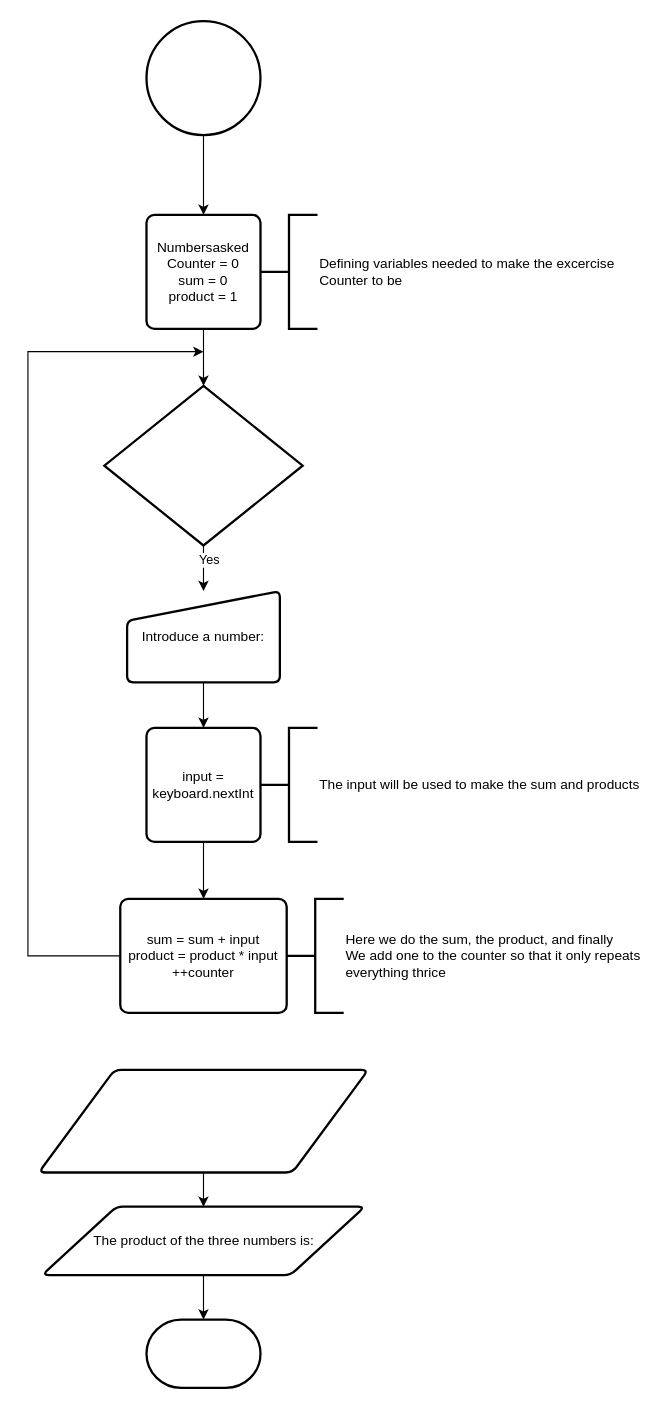
The diagram is 661 pixels wide and 1408 high, and some of its shapes have lost their labels. Here are the shapes that lost their labels. From the top down, the centre of each, then its label:
(x=203, y=77): START
(x=203, y=465): Is counter lesser than numbersasked?
(x=203, y=1120): The sum of the three numbers is: "+sum
(x=203, y=1353): END
